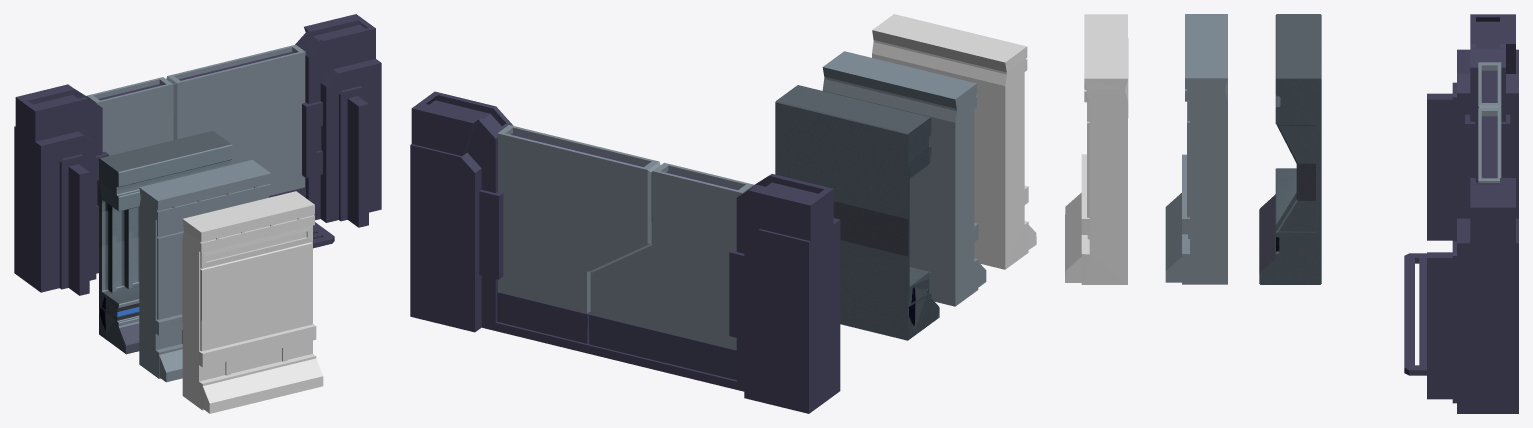
File: FixSet1.fbx
3 renders of one model, left to right at view 1: azimuth 30°, elevation 25°; view 2: azimuth 150°, elevation 25°; view 3: azimuth 270°, elevation 25°, orthographic. The views are drawn at different scales.
Parts seen in each view (by area): view 1: GBLP, W2LP, GateRight, W1LP, W3LP, GateLeft; view 2: GBLP, W3LP, GateRight, GateLeft, W1LP, W2LP; view 3: GBLP, W2LP, W3LP, W1LP, GateRight, GateLeft.
Part boxes in pixels (box(x1,y1,x2,y2)): GBLP: box(14, 14, 381, 295); W2LP: box(182, 191, 323, 413); GateRight: box(166, 44, 305, 197); W1LP: box(139, 160, 271, 382); W3LP: box(99, 130, 232, 354); GateLeft: box(86, 77, 174, 155); GBLP: box(410, 91, 840, 413); W3LP: box(775, 85, 939, 340); GateRight: box(497, 125, 660, 343); GateLeft: box(589, 162, 753, 379); W1LP: box(822, 51, 986, 306); W2LP: box(872, 14, 1036, 269); GBLP: box(1404, 14, 1518, 413); W2LP: box(1065, 14, 1128, 284); W3LP: box(1259, 14, 1321, 284); W1LP: box(1165, 14, 1227, 284); GateRight: box(1478, 108, 1501, 182); GateLeft: box(1478, 62, 1501, 107).
Size of the model in its own units: 1203 by 598 by 1192.
